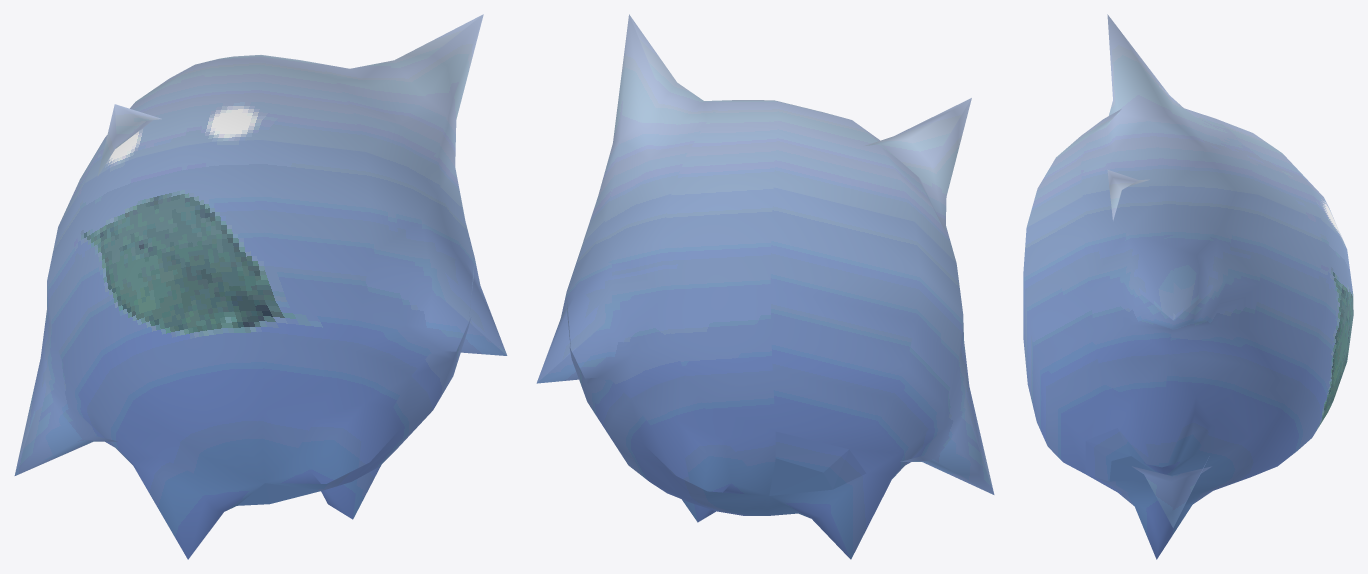
Rendered from ps2_save-icons_shamankingpowerofspirit.glb.
3 renders of one model, left to right at view 1: azimuth 30°, elevation 25°; view 2: azimuth 150°, elevation 25°; view 3: azimuth 270°, elevation 25°, orthographic. The views are drawn at different scales.
Visible parts, largest first — view 1: shaman1.ico; view 2: shaman1.ico; view 3: shaman1.ico.
Part boxes in pixels (x1,y1,x2,y2): shaman1.ico: (14,14,507,559); shaman1.ico: (536,14,994,559); shaman1.ico: (1023,14,1353,559).
Bounding box in the file's own units: 3.54 × 3.44 × 2.37.
1 material, 1 textured.
